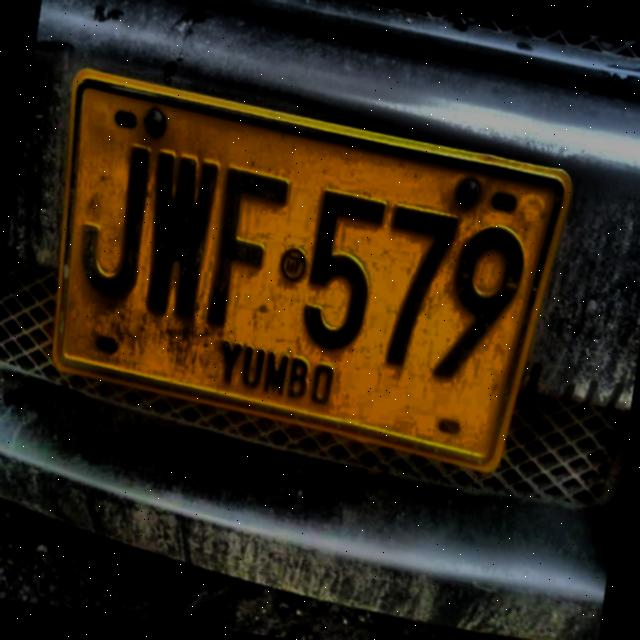plate: (59, 78, 569, 467)
